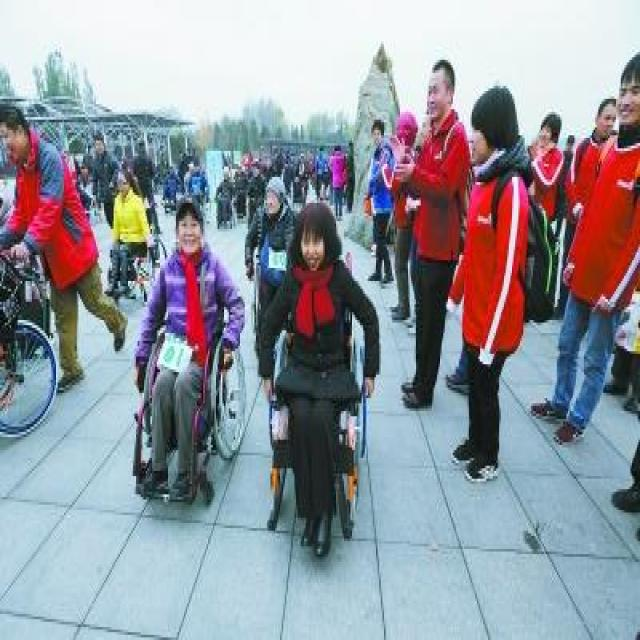wheelchairs: (259, 304, 374, 563), (129, 292, 249, 518)
